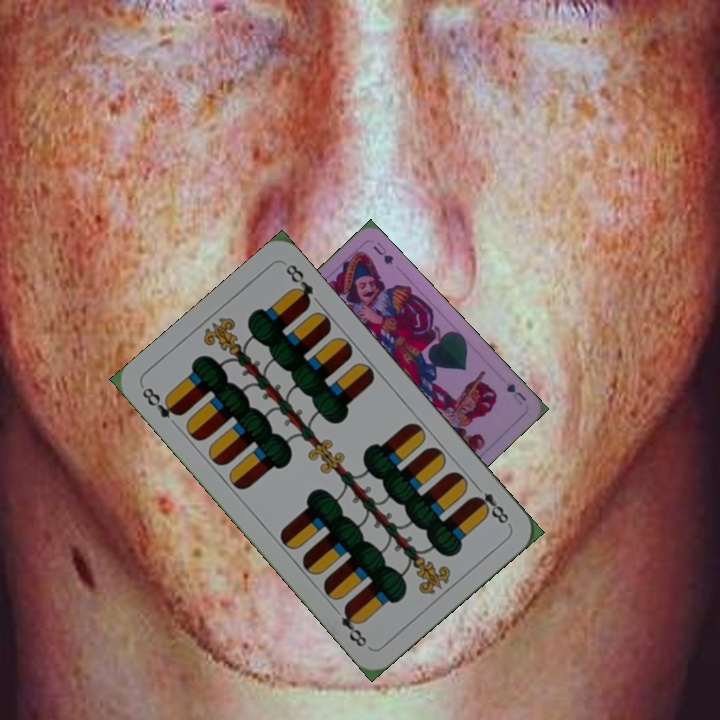E8: (468, 479, 512, 527), (138, 383, 185, 421)
GU: (502, 378, 529, 408)
